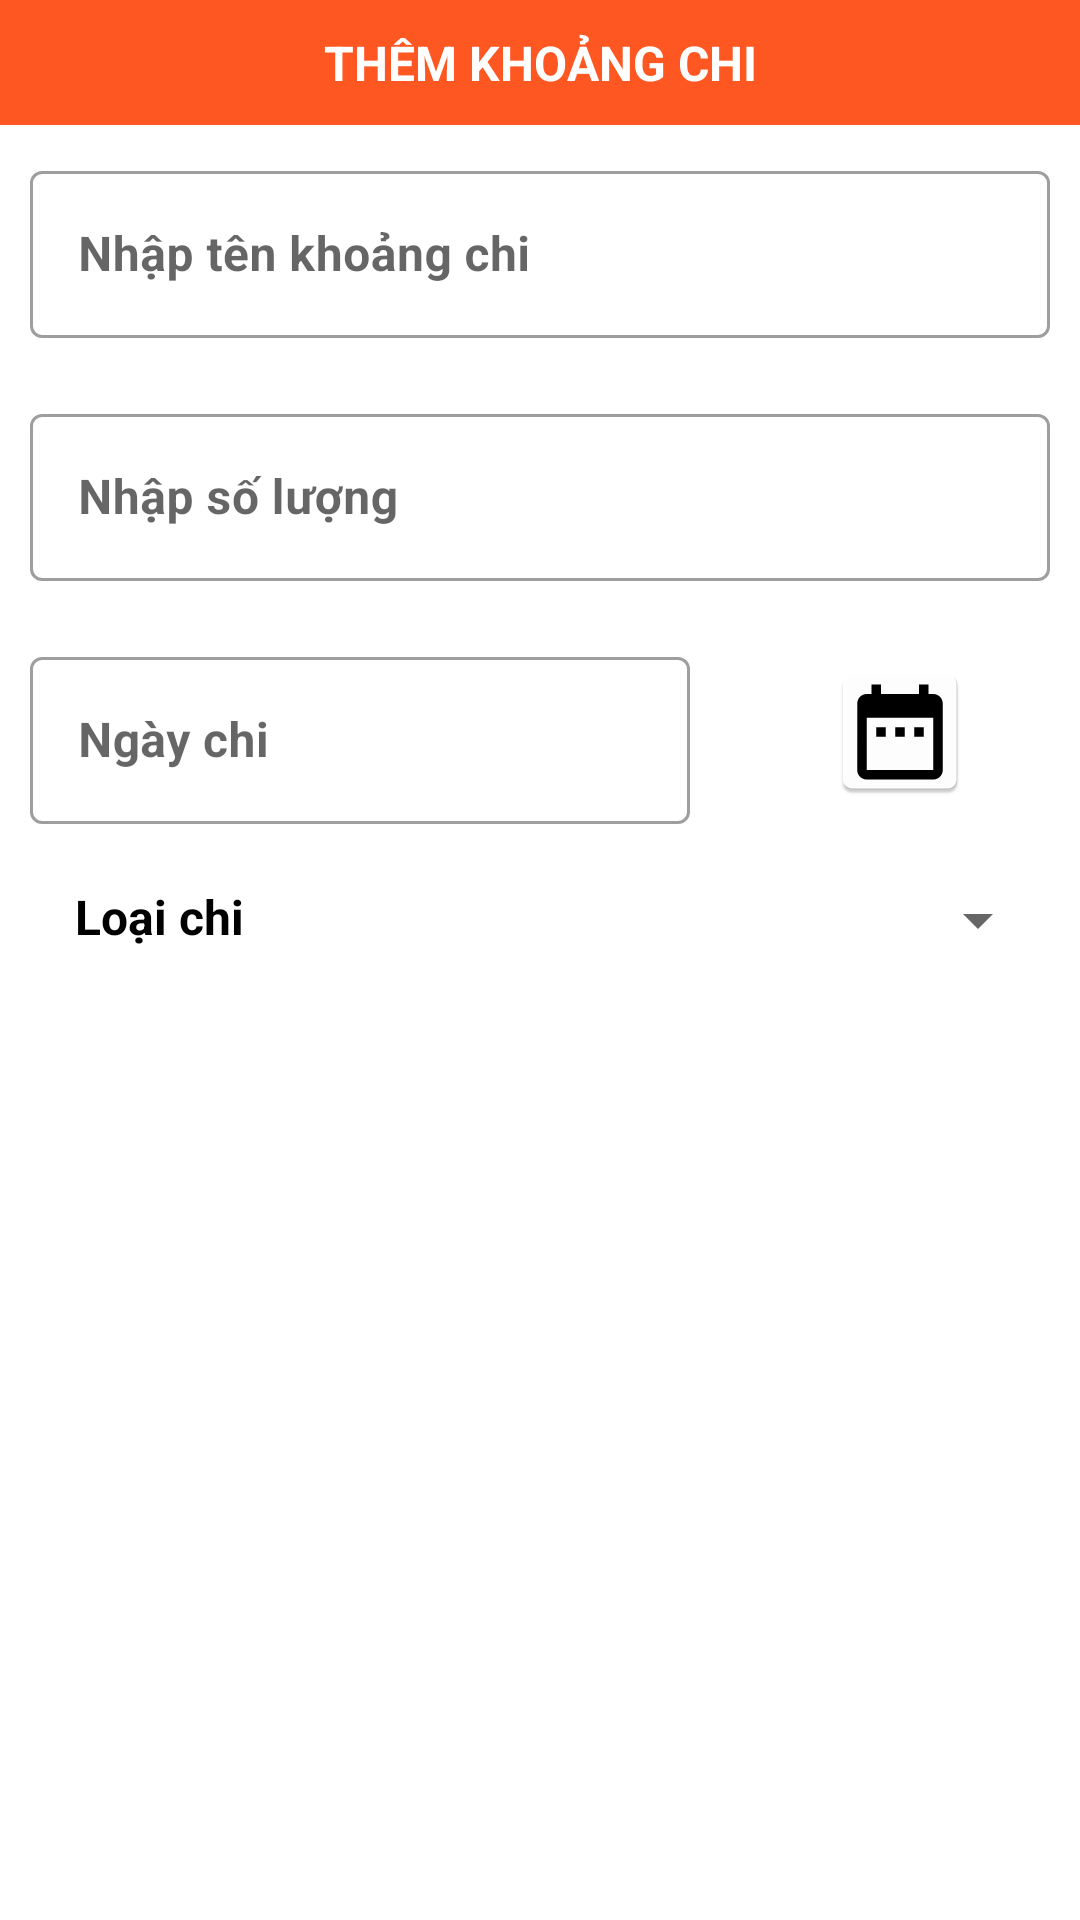

Icon bounding boxes for this 1080 x 1920 phone screenshot, format box=[x1, y1, x2, y2]:
date: box=[843, 681, 958, 793]
